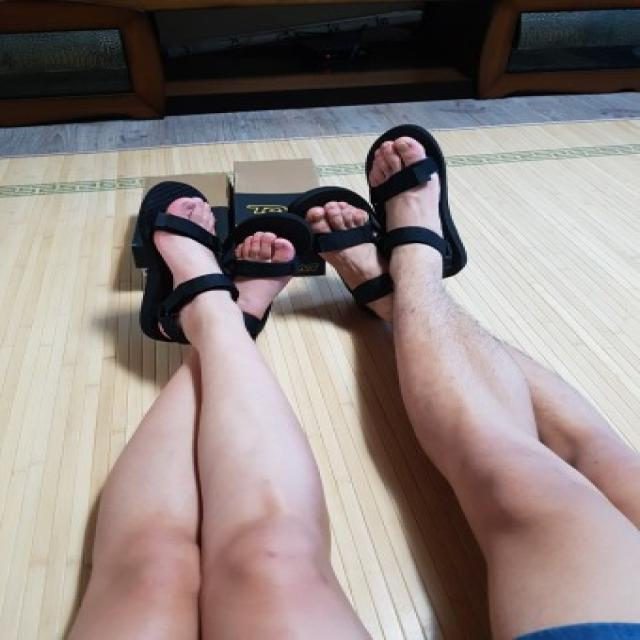no-boots: (344, 127, 465, 283), (117, 180, 224, 334)
